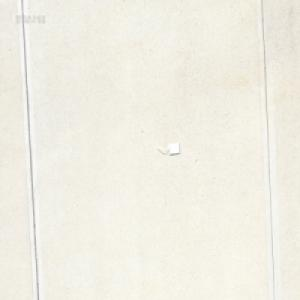LuggageTag: (155, 140, 180, 157)
